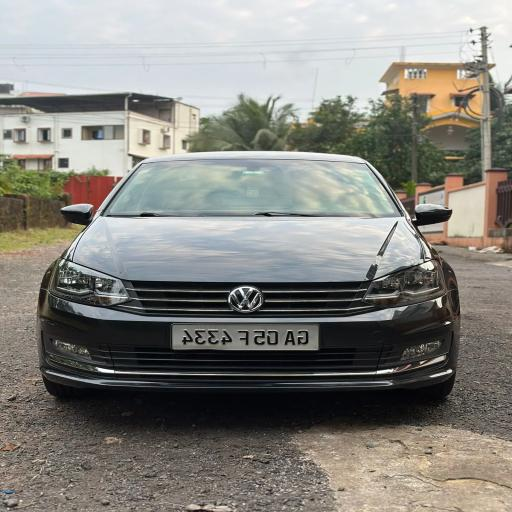License: (168, 322, 322, 352)
